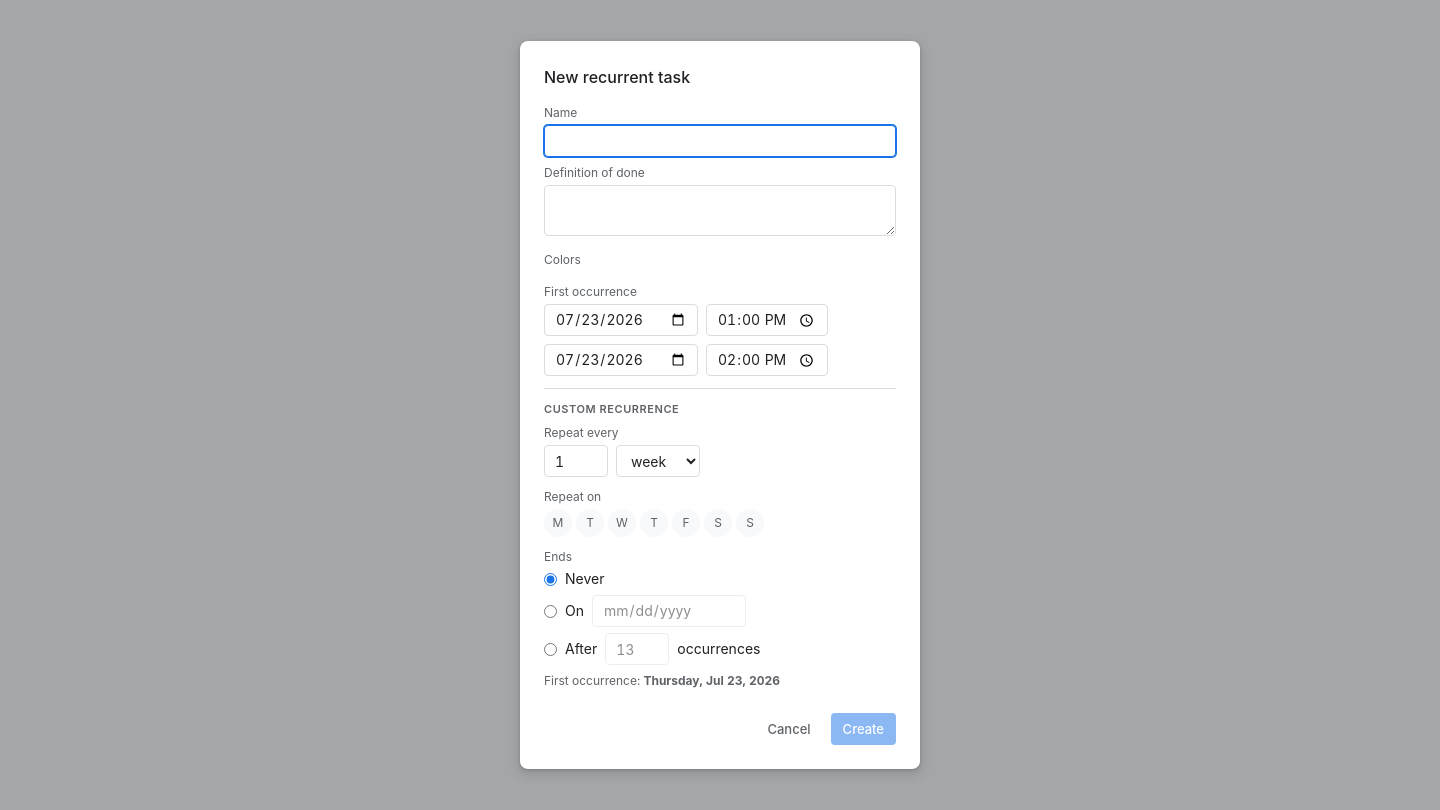
Scenario: NewRecurrentTaskDialog › auto-adjusts the end date+time to match a start moved past it, instead of a warning
The width and height of the screenshot is (1440, 810).
Type "2026-08-10" into the date field named "Start date".
click(621, 320); type("2026-08-10")  # box [544, 304, 698, 336]
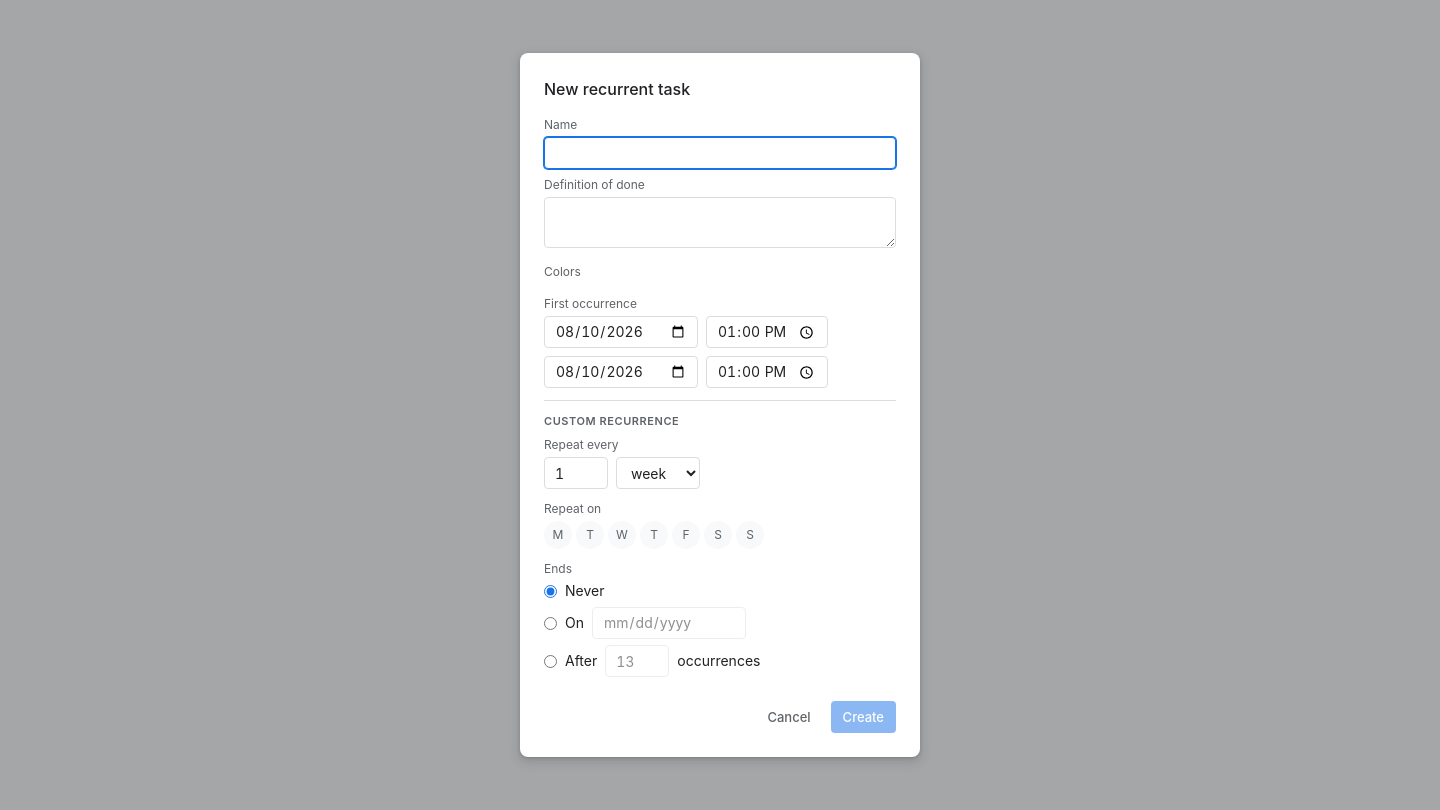
Replace the text in the time field named "Start hour" with "14:00" at (767, 332), box [706, 316, 828, 348]
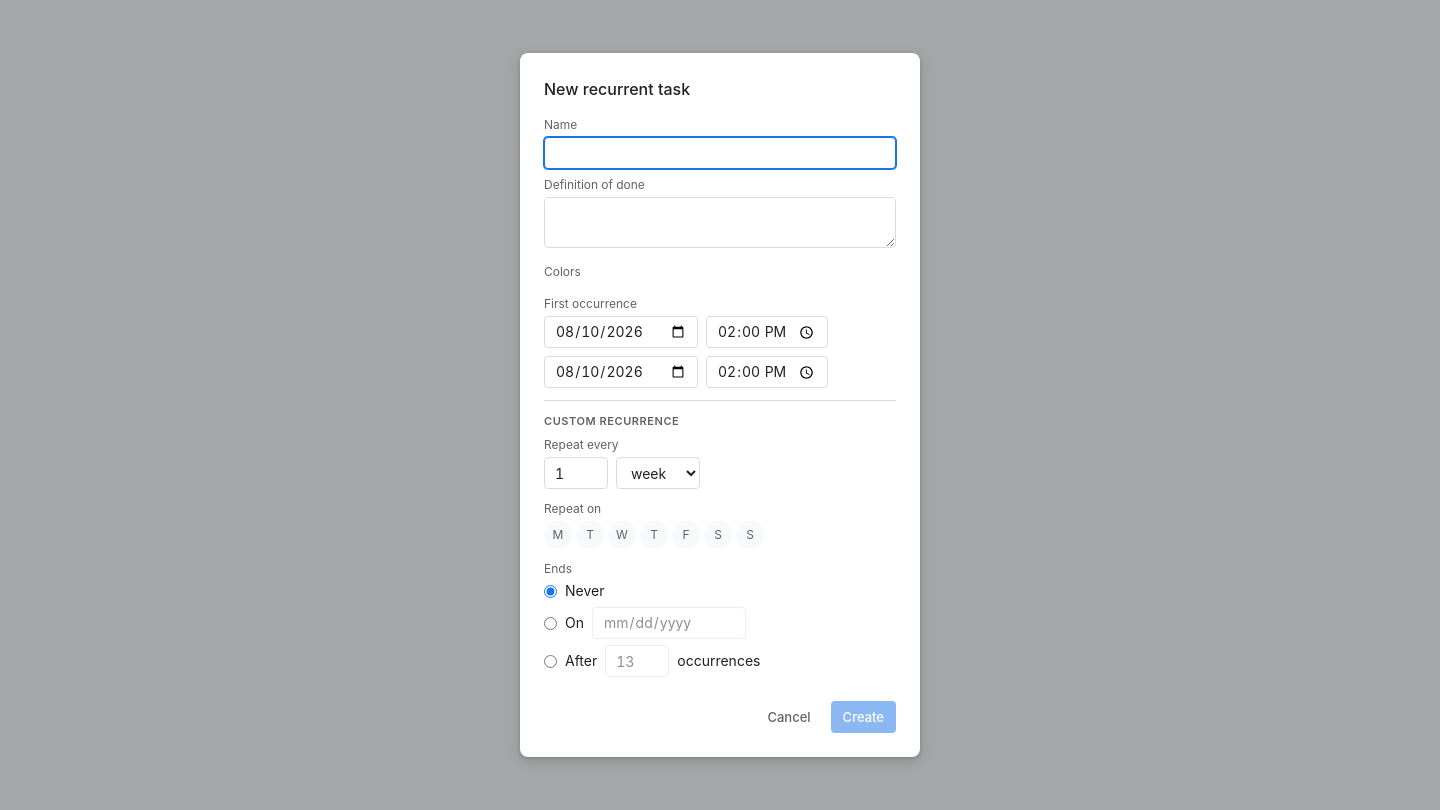
Result: the date field named "End date" holds "2026-08-10" at [544, 356, 698, 388]
Result: the time field named "End hour" holds "14:00" at [706, 356, 828, 388]
